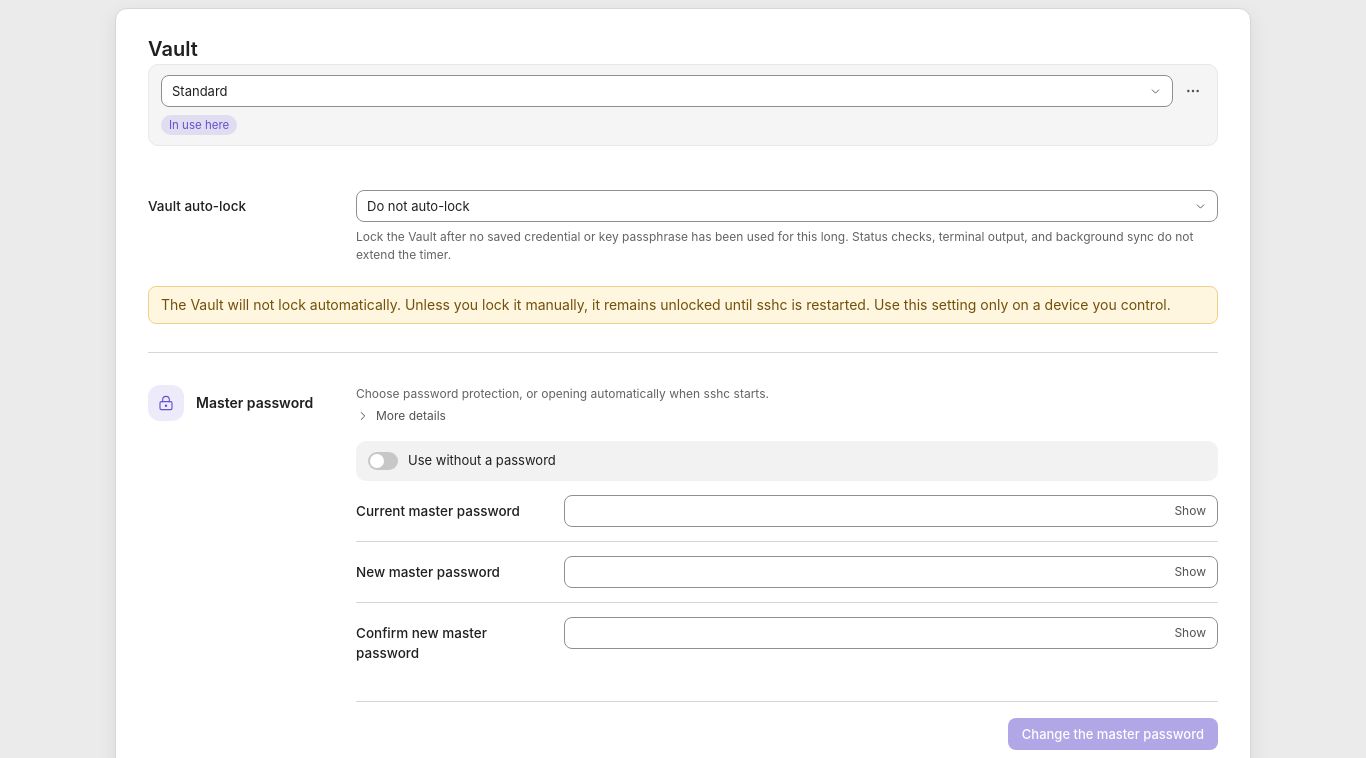
Scenario: SettingsPanel › restores restart-only locking and refuses to save a duration outside 1 to 999
The image size is (1366, 758).
Select "Lock after inactivity" in the dropdown labelled "Vault auto-lock" at (787, 206), box [356, 190, 1218, 222]
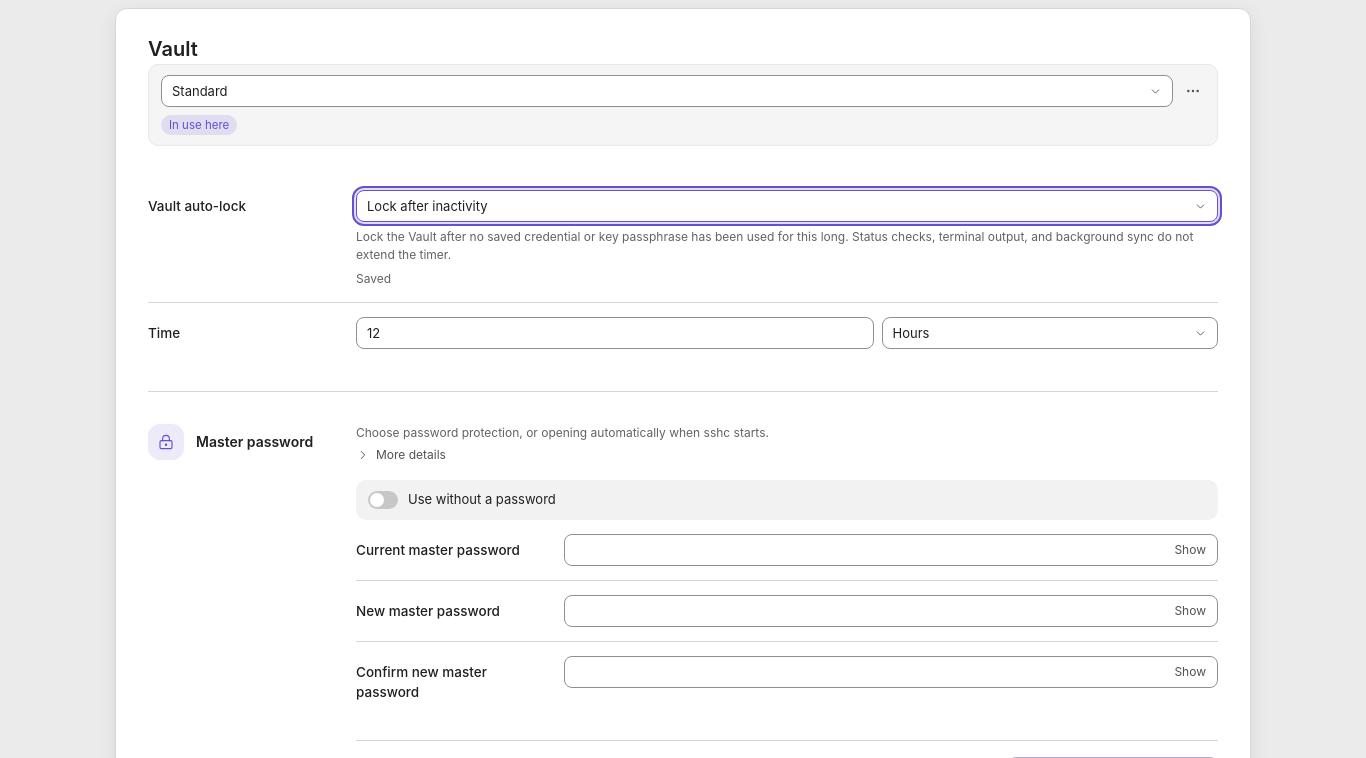
Replace the text in the number field named "Time" with "1000" at (615, 333), box [356, 317, 874, 349]
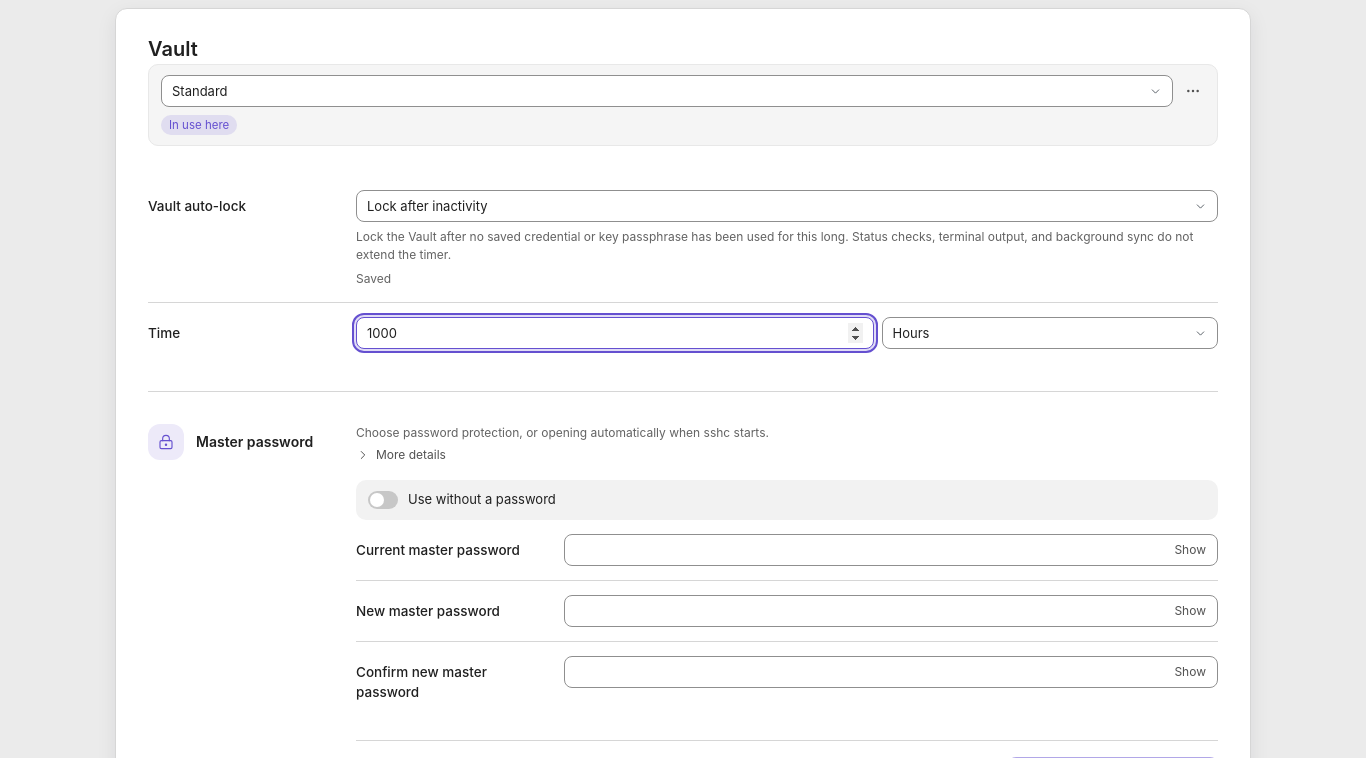
Press Tab
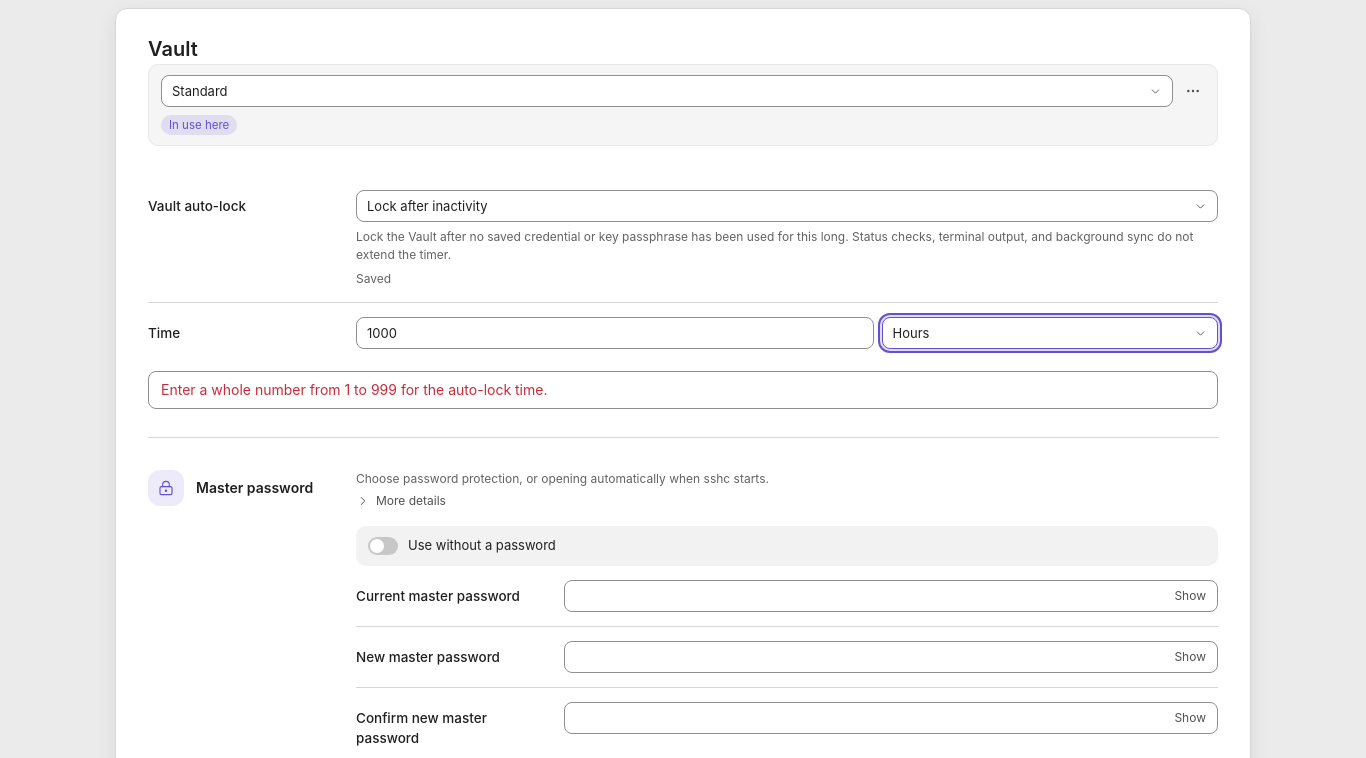
Now the text "Enter a whole number from 1 to 999 for the auto-lock time." is shown, box [161, 381, 548, 398]
